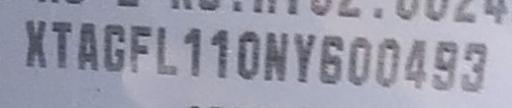letter: (456, 38, 488, 92), (232, 28, 262, 82), (288, 27, 316, 84), (428, 35, 456, 90), (153, 21, 179, 77), (21, 17, 49, 68), (262, 28, 288, 82), (100, 21, 126, 74), (374, 33, 400, 86), (206, 24, 230, 80), (318, 29, 342, 84), (346, 32, 370, 87), (402, 33, 426, 88), (181, 24, 205, 78), (48, 20, 74, 68), (127, 21, 151, 73), (76, 19, 98, 73)
